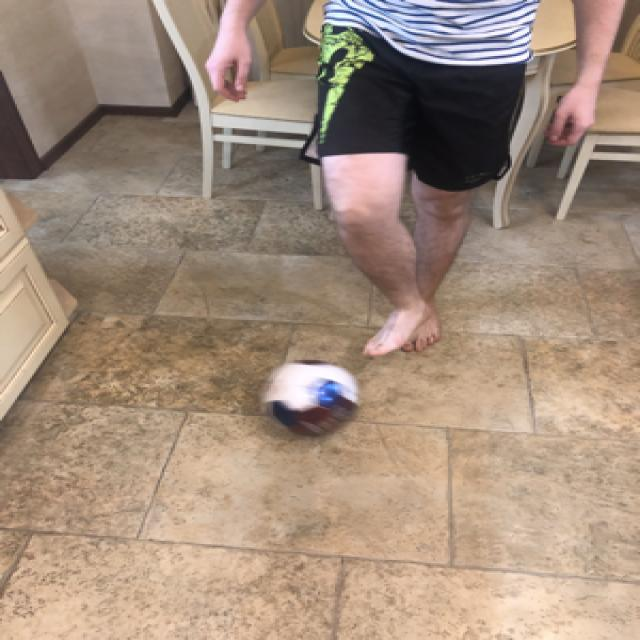soccer_ball: (256, 354, 358, 436)
